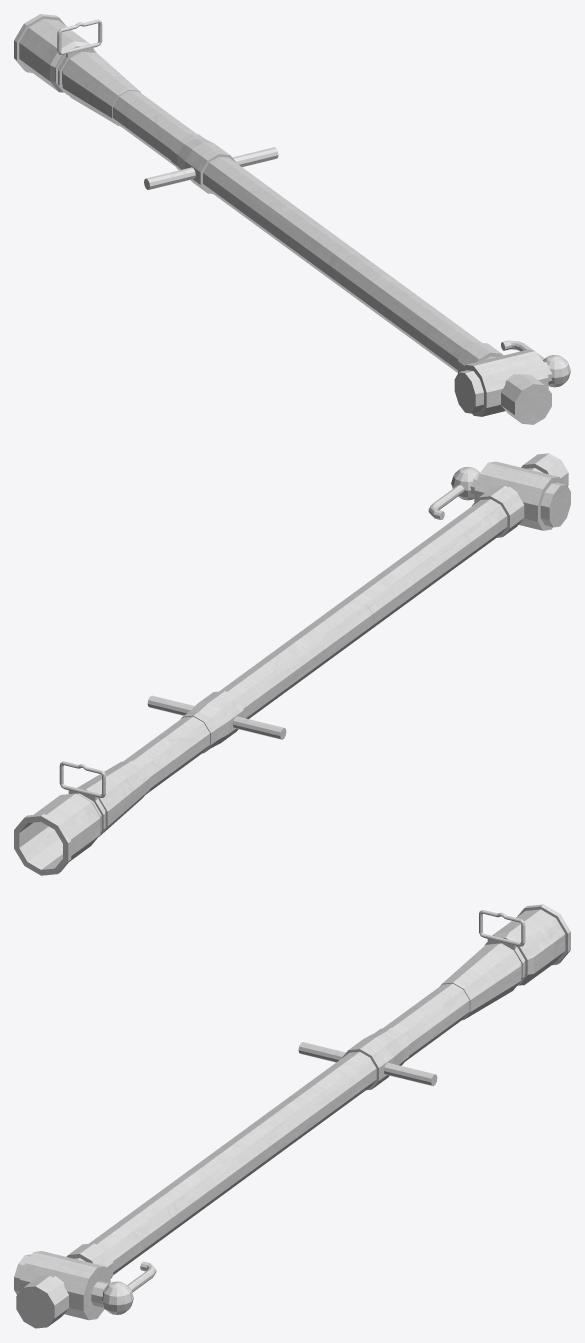
Rendered from Flame.fbx.
3 renders of one model, top to bottom at view 1: azimuth 30°, elevation 25°; view 2: azimuth 150°, elevation 25°; view 3: azimuth 330°, elevation 25°, orthographic. The views are drawn at different scales.
Parts seen in each view (by area): view 1: Metal1.005, Brass1; view 2: Metal1.005, Brass1; view 3: Metal1.005, Brass1.
Boxes of the visible parts, box(x1,y1,x2,y2) form: Metal1.005: box(14, 14, 481, 372); Brass1: box(58, 51, 570, 424); Metal1.005: box(14, 499, 507, 875); Brass1: box(93, 453, 570, 814); Metal1.005: box(89, 904, 570, 1274); Brass1: box(14, 943, 525, 1328).
Bounding box in the file's own units: 63.91 × 37.39 × 424.
